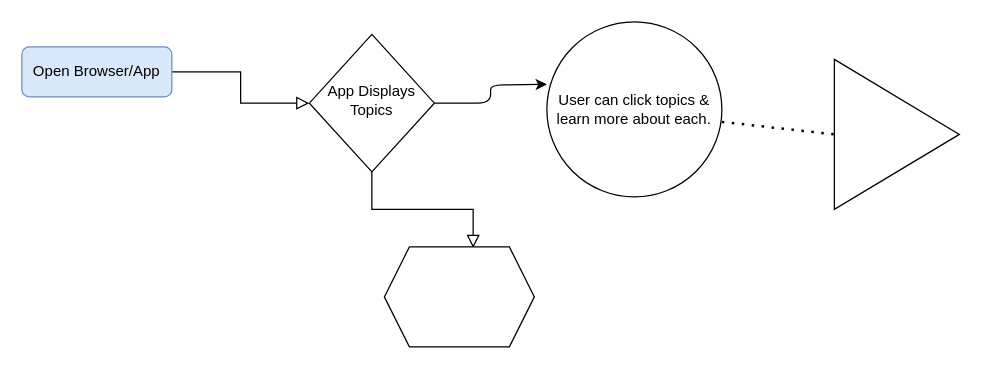
This 981x369 diagram has some shape labels left out. Each missing label, with the centre of its shape:
"*Potential option to add questions for topics." goes at pixel 896 133.
"Pop if user enjoyed experience. Prompt feedback." goes at pixel 458 296.
